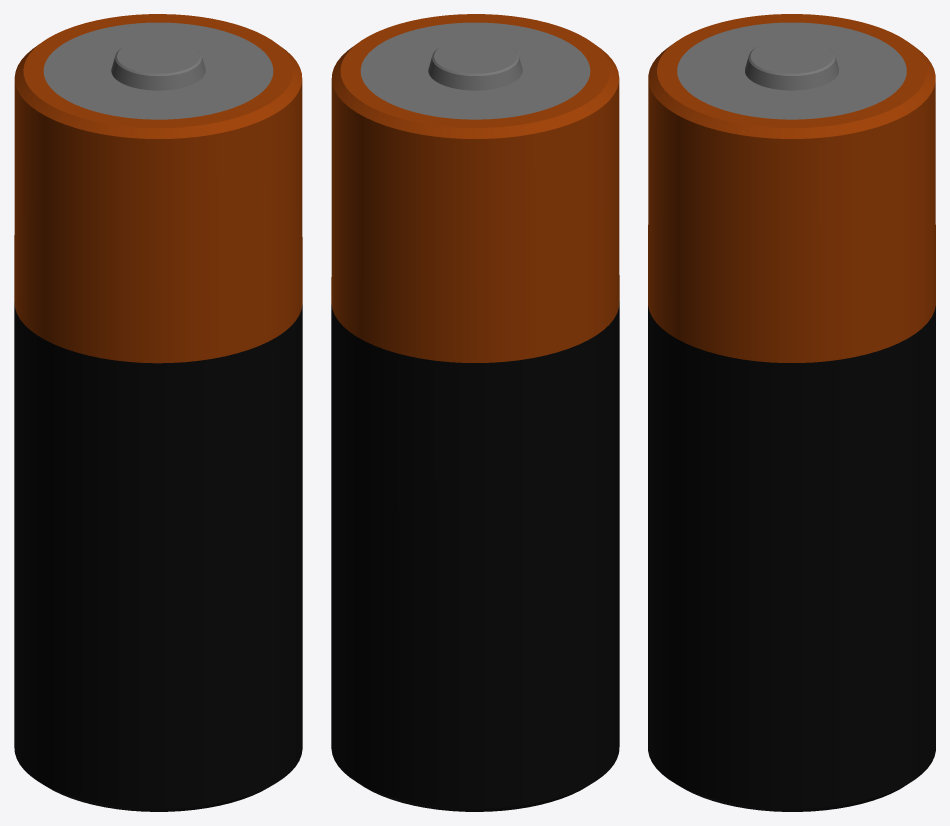
Rendered from Battery.fbx.
3 renders of one model, left to right at view 1: azimuth 30°, elevation 25°; view 2: azimuth 150°, elevation 25°; view 3: azimuth 270°, elevation 25°, orthographic.
Parts seen in each view (by area): view 1: Battery; view 2: Battery; view 3: Battery.
Part boxes in pixels (box(x1,y1,x2,y2)): Battery: box(14, 14, 302, 811); Battery: box(331, 14, 619, 811); Battery: box(648, 14, 935, 811).
Size of the model in its own units: 0.529 by 1.42 by 0.529.
Materials: 1 (1 with a texture image).
